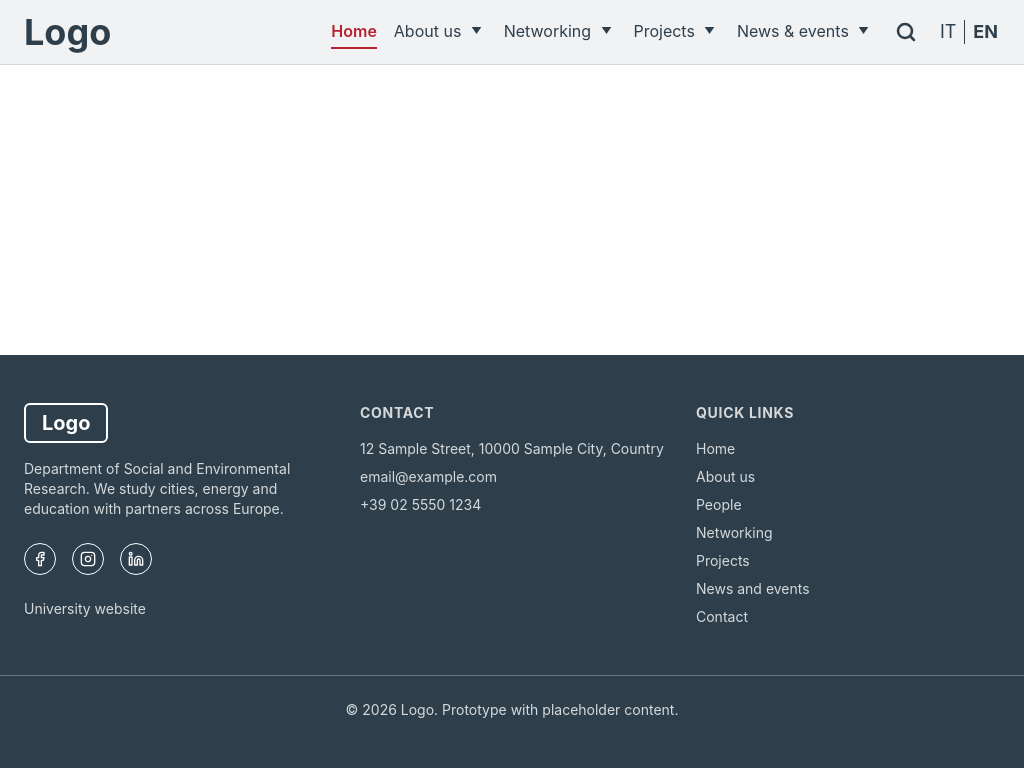
Scenario: LangProvider › switches menu and footer to Italian and back
Click the button "IT": [948, 32] box [938, 18, 958, 46]
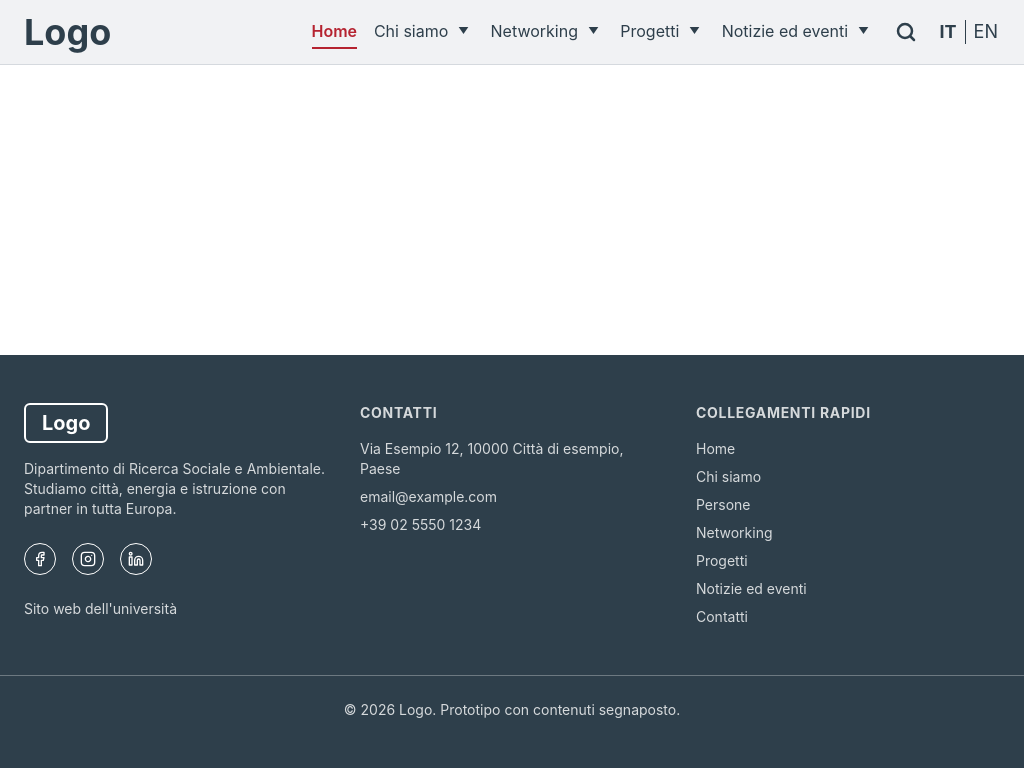
Check: the heading "Collegamenti rapidi" is shown, box [696, 404, 871, 421]
Check: the heading "Contatti" is shown, box [360, 404, 437, 421]
Check: the text "Dipartimento di Ricerca Sociale e Ambientale. Studiamo città, energia e istruzione con partner in tutta Europa." is shown, box [24, 460, 325, 517]
Click the button "EN": [986, 32] box [972, 18, 1000, 46]
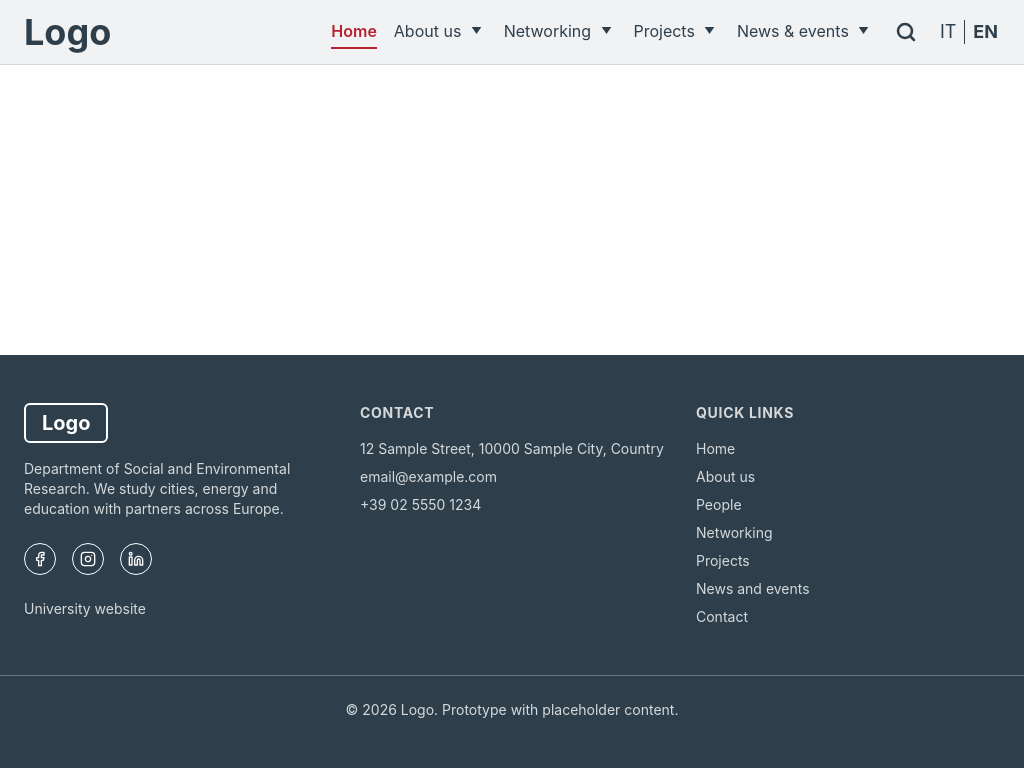
Check: the heading "Quick links" is shown, box [696, 404, 794, 421]
Check: the text "© 2026 Logo. Prototype with placeholder content." is shown, box [346, 701, 678, 718]
